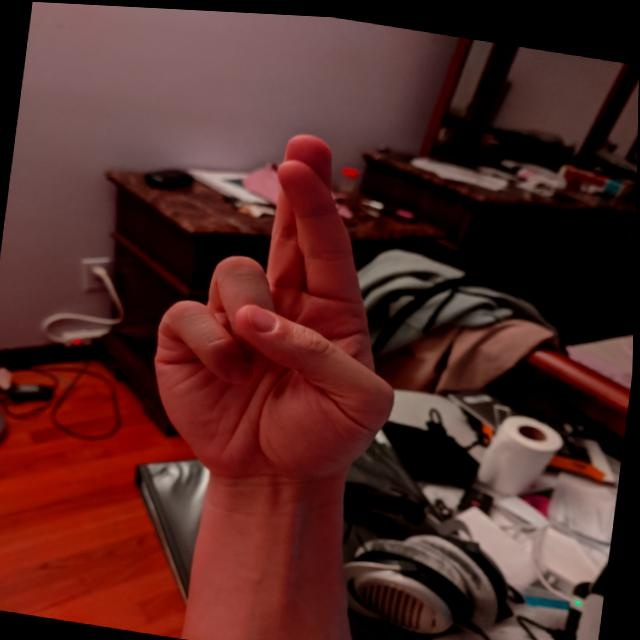R: (132, 103, 437, 502)
